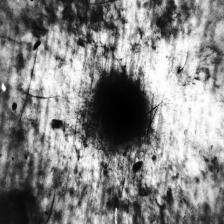Benign Marking or Mole: (94, 79, 153, 150)
